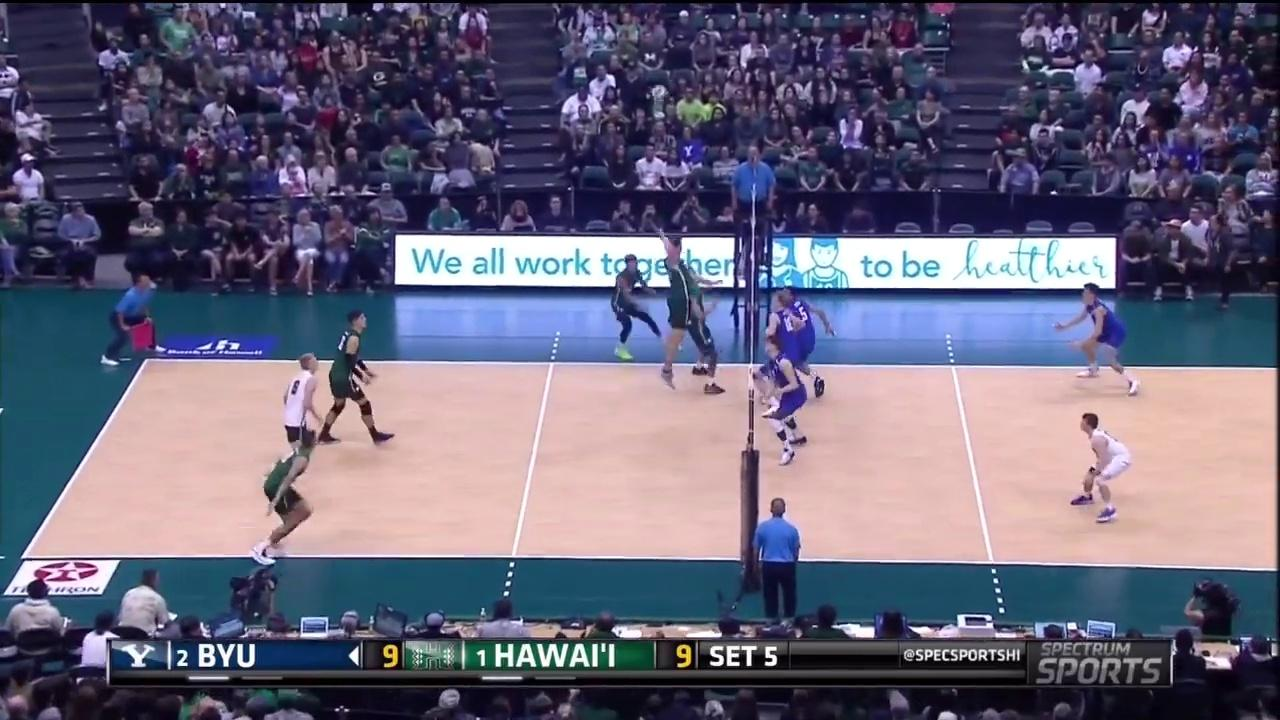player: (256, 433, 329, 569), (1054, 285, 1139, 394), (324, 317, 396, 443), (597, 246, 660, 374), (778, 279, 841, 405), (760, 339, 820, 466), (683, 249, 729, 406), (272, 345, 336, 455), (654, 229, 691, 404), (1072, 416, 1131, 523), (764, 291, 811, 414)
refree: (745, 484, 806, 616), (724, 143, 778, 254), (100, 275, 156, 367)
